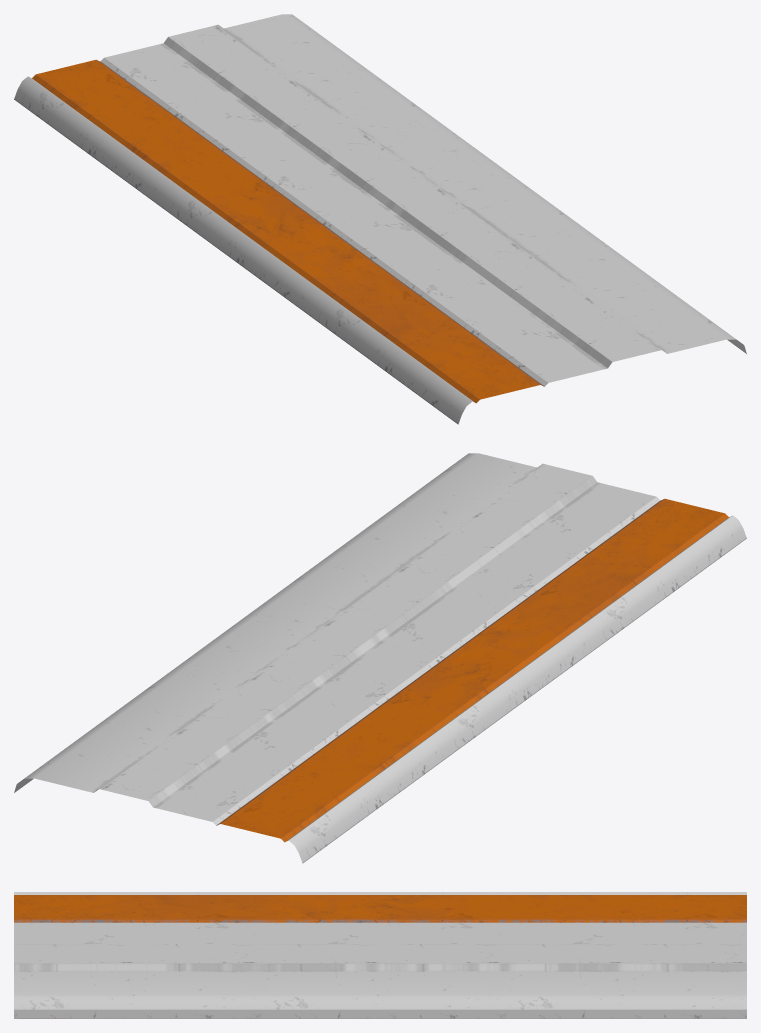
Rendered from Floor_Side.fbx.
The picture shows the model from 3 angles, top to bottom: view 1: azimuth 30°, elevation 25°; view 2: azimuth 150°, elevation 25°; view 3: azimuth 270°, elevation 25°; orthographic projection. The views are drawn at different scales.
Parts seen in each view (by area): view 1: Floor_Side; view 2: Floor_Side; view 3: Floor_Side.
Boxes of the visible parts, box(x1,y1,x2,y2) form: Floor_Side: box(14, 14, 746, 424); Floor_Side: box(14, 453, 746, 863); Floor_Side: box(14, 892, 746, 1018).
Size of the model in its own units: 1.59 by 0.1315 by 4.24.
